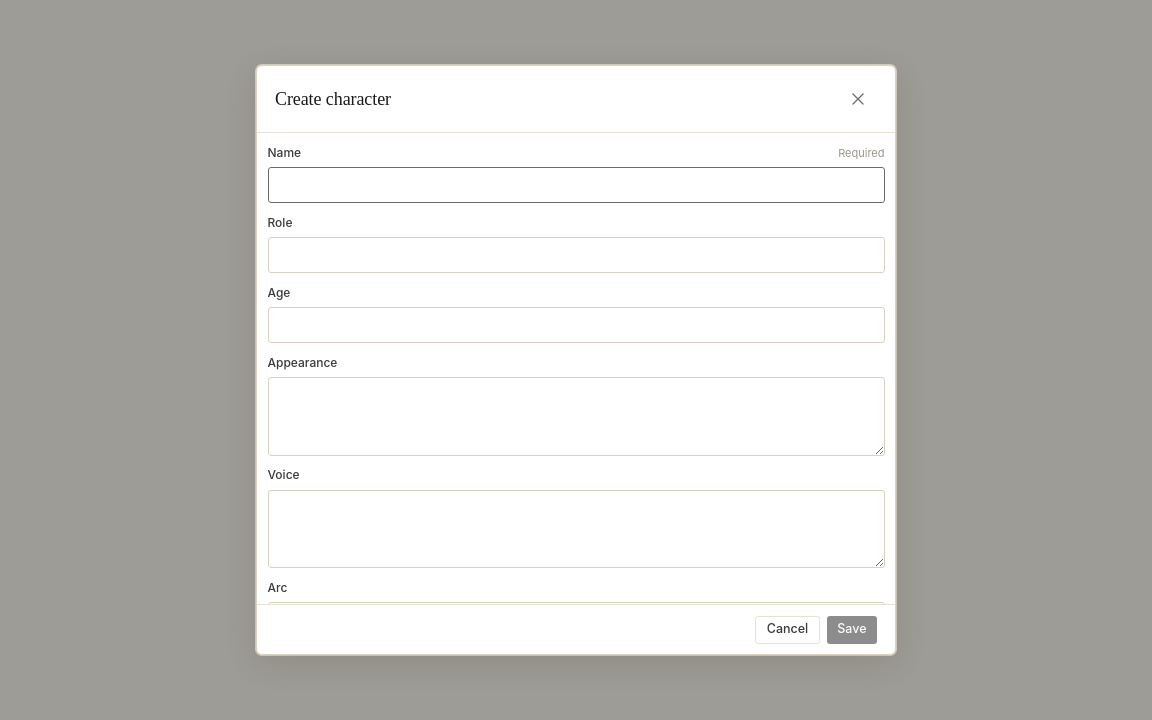
Test: CharacterSheet — create mode › keeps the modal open and shows form error on create failure
In the field labelled "Name Required": (576, 185) [268,167,884,203], type "Astra"
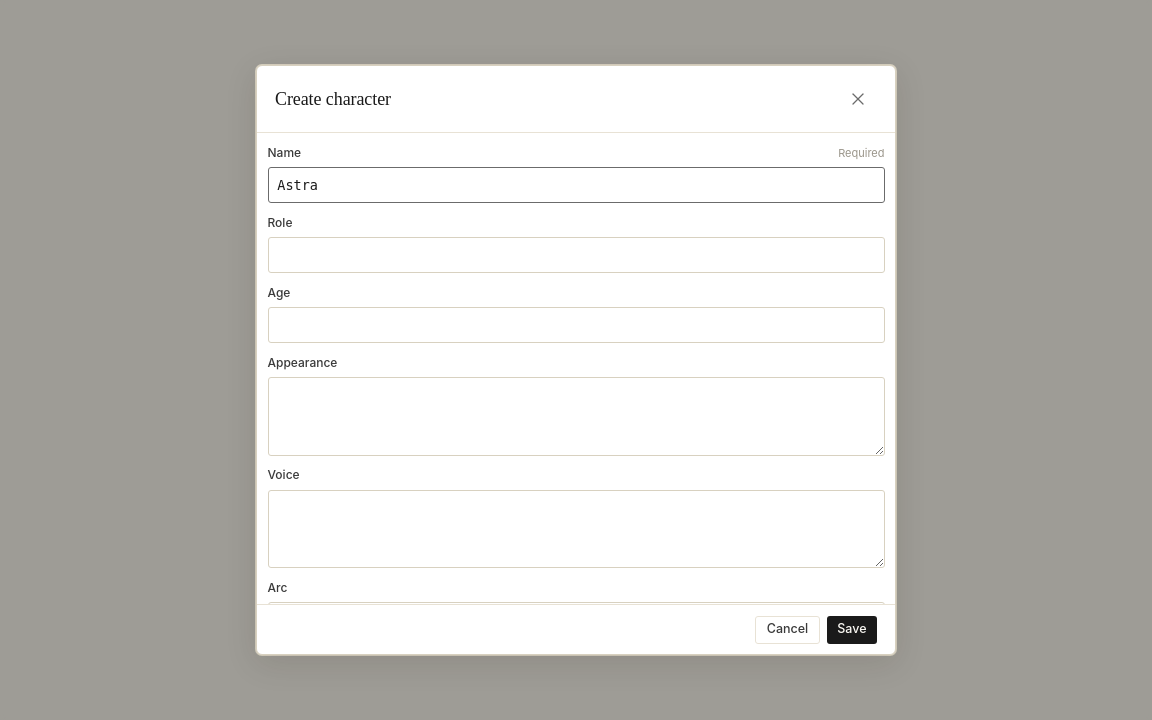
Click the button with test id "character-sheet-save": click(852, 630) [827,616,877,644]
(page scrolled)
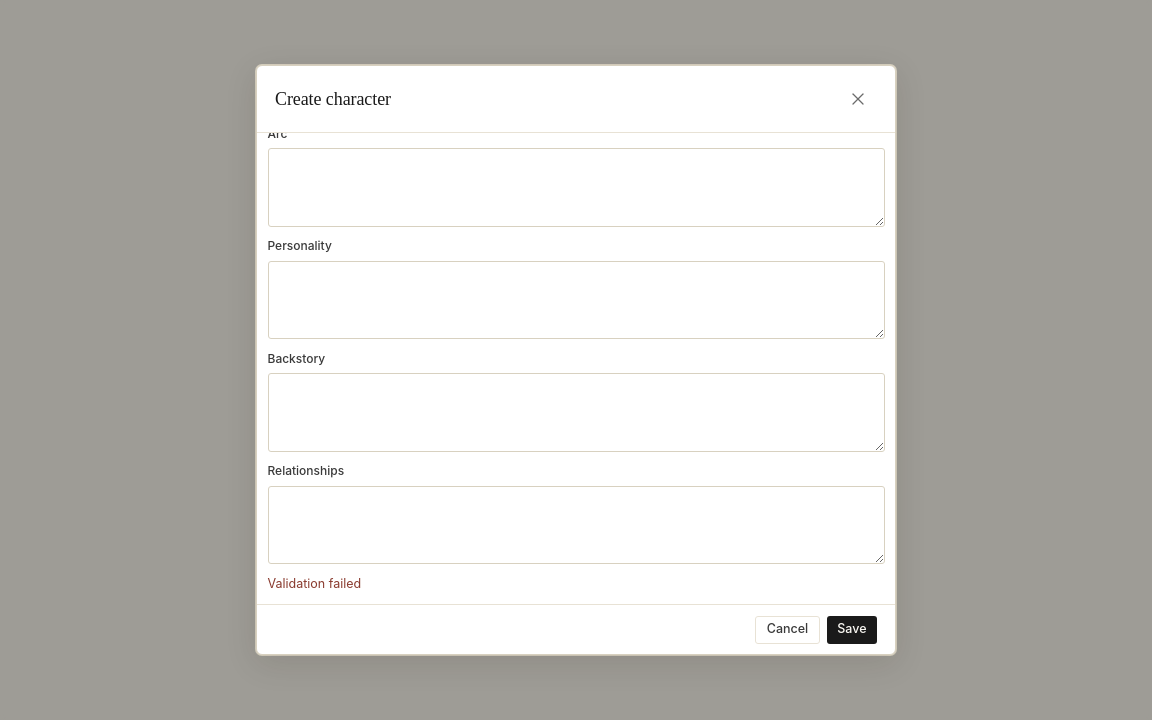
expect the message "Validation failed" is shown: met, box [268,576,361,591]
